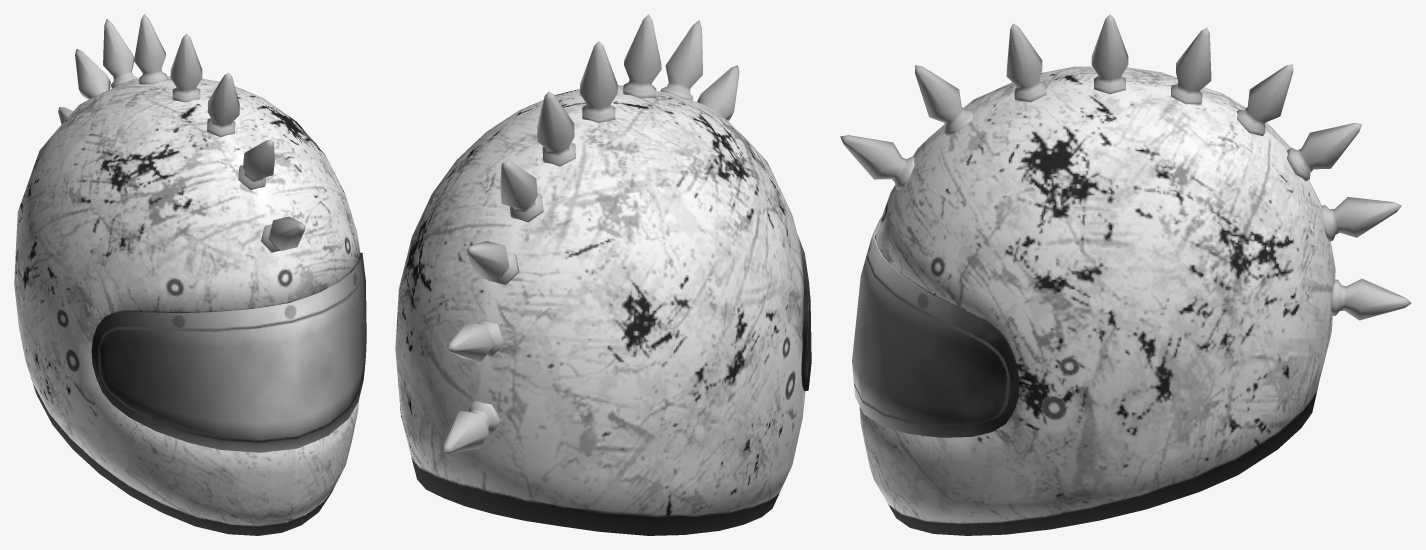
Rendered from SurvivorMale_Head_HelmetSpikes_Motorcycle_Tintable_LOD0.glb.
3 renders of one model, left to right at view 1: azimuth 30°, elevation 25°; view 2: azimuth 150°, elevation 25°; view 3: azimuth 270°, elevation 25°, orthographic. The views are drawn at different scales.
Parts seen in each view (by area): view 1: Hoodie; view 2: Hoodie; view 3: Hoodie.
Boxes of the visible parts, <box> form: Hoodie: <box>14,14,366,535</box>; Hoodie: <box>395,14,811,535</box>; Hoodie: <box>840,14,1411,535</box>.
Bounding box in the file's own units: 0.2236 × 0.3182 × 0.3348.
Materials: 1 (1 with a texture image).
